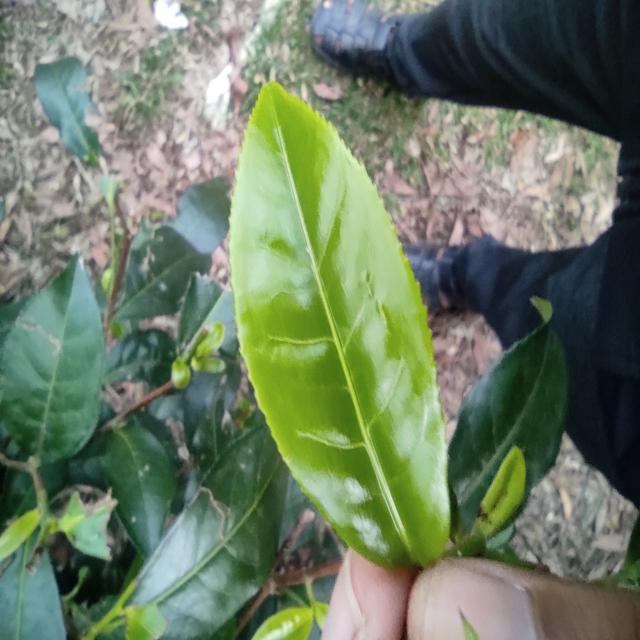Category C 4-7 days: (209, 54, 465, 570)
